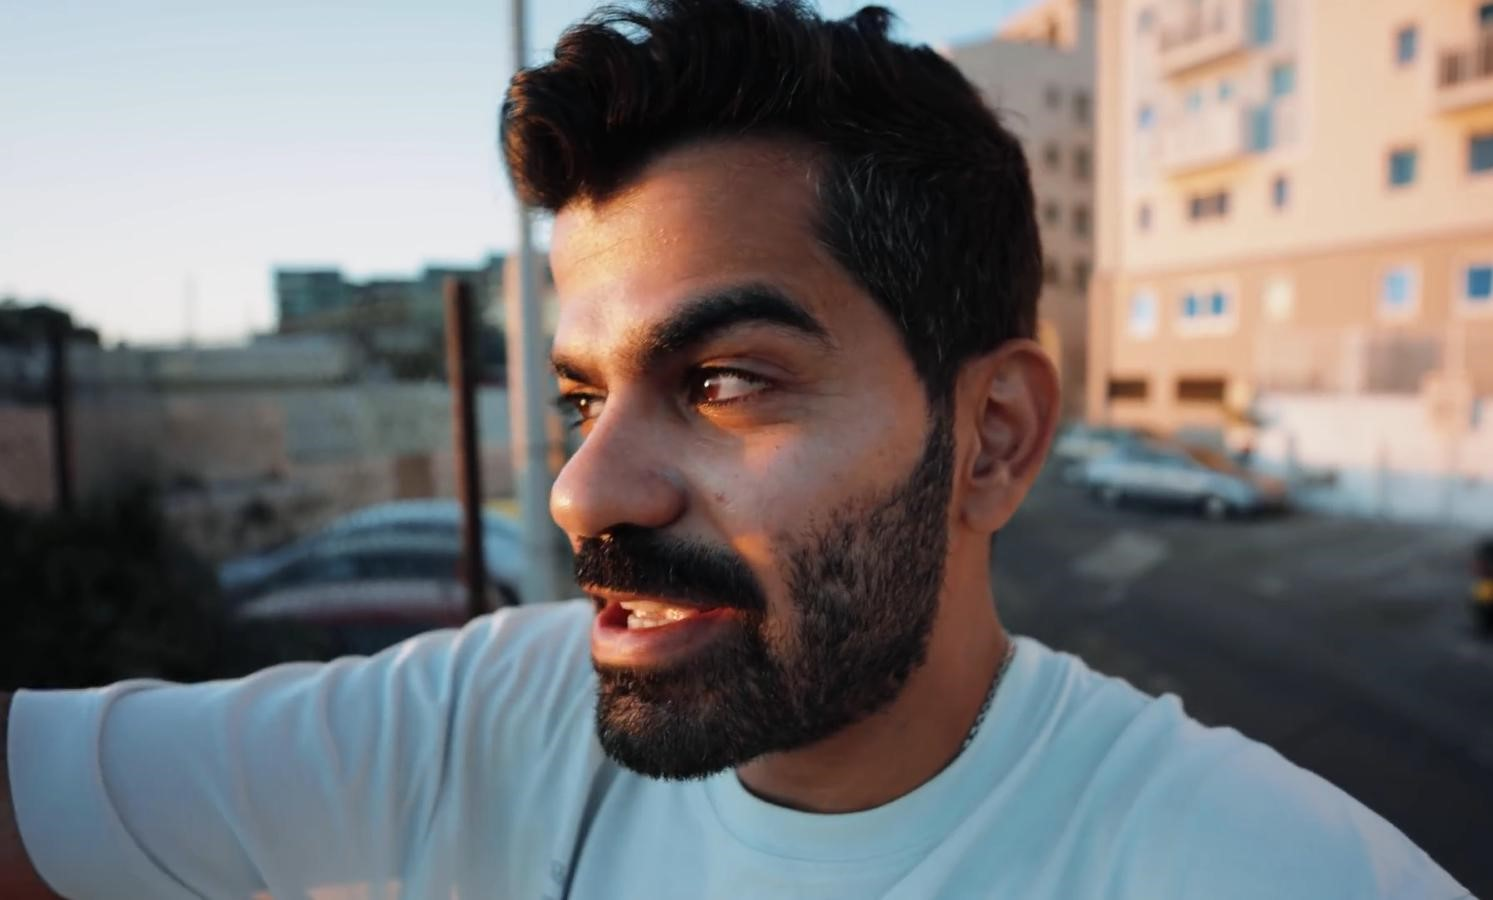without_mask: (582, 269, 867, 746)
